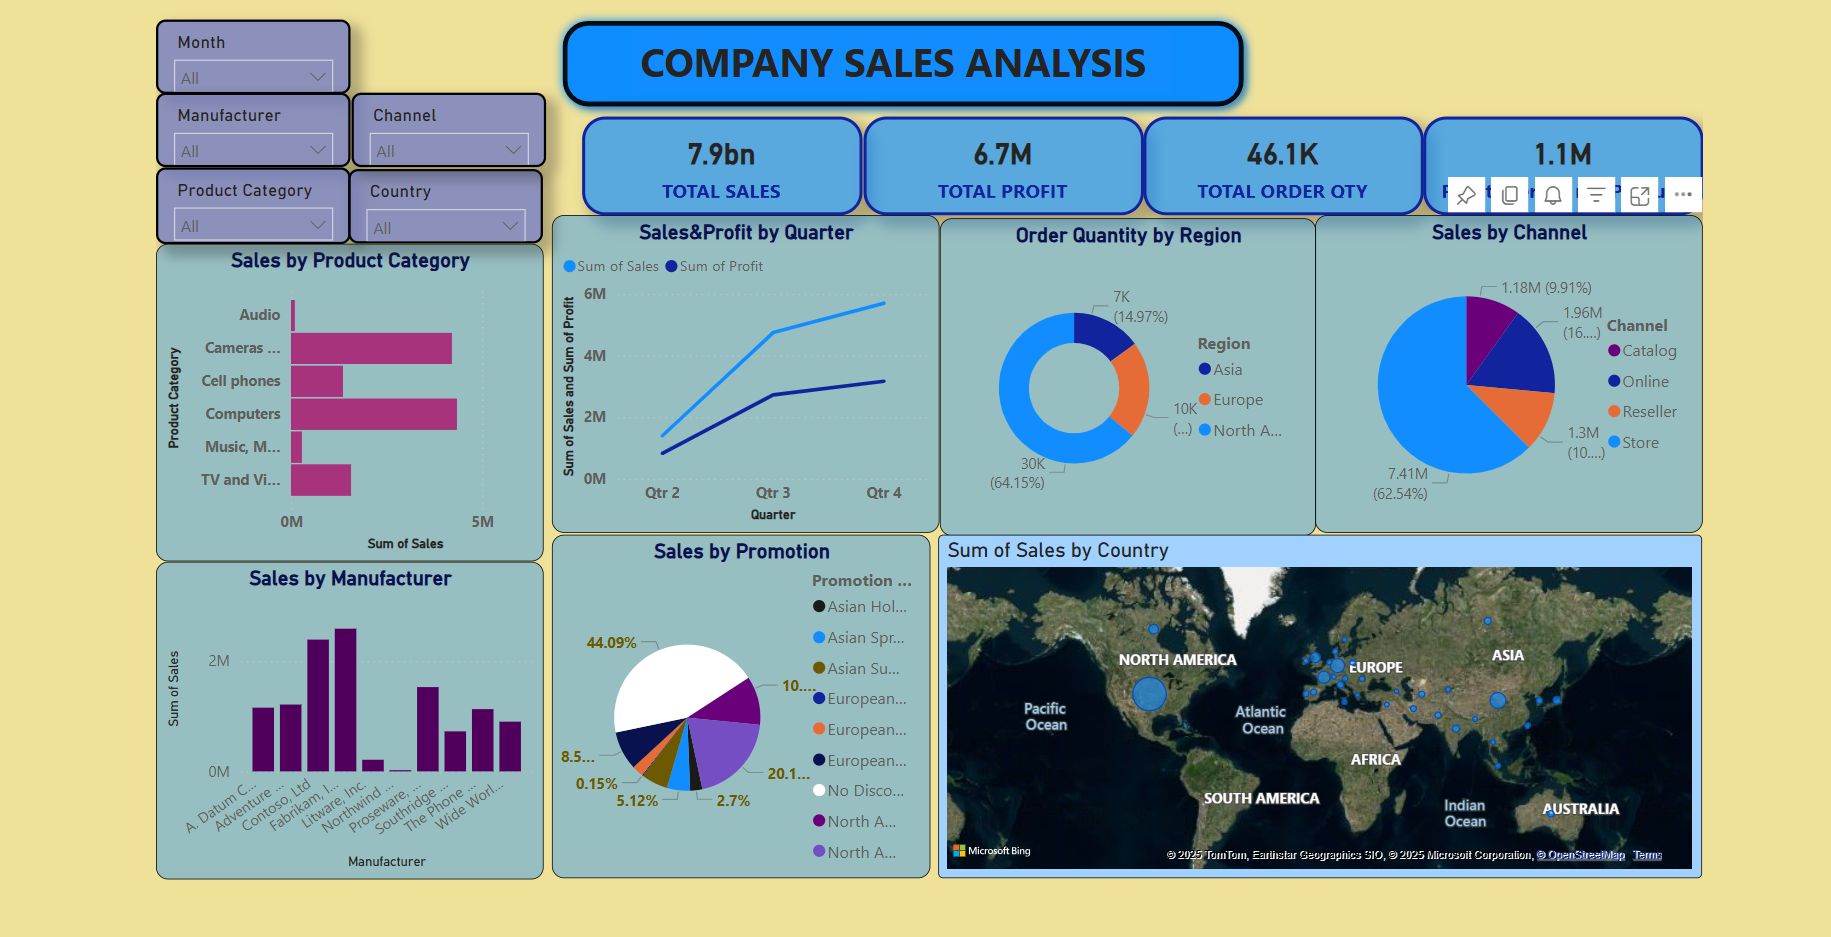

This screenshot's page, from the dashboard's own definition file:
{"tool":"powerbi","page":{"name":"2016","canvas":[1280,720],"ordinal":2},"visuals":[{"type":"shape","box":[327.9,0,581.5,88.8],"z":0,"group":"g1"},{"type":"group","id":"g1","title":"Group 1","box":[327.9,0,581.5,88.8],"z":0},{"type":"textbox","box":[396.7,16.3,443.8,52.5],"z":1000,"group":"g1"},{"type":"card","fields":{"Values":["KPIs.TOTAL SALES"]},"box":[353.2,88.8,231.9,81.5],"z":1000},{"type":"card","fields":{"Values":["KPIs.TOTAL PROFIT"]},"box":[585.1,88.8,231.9,81.5],"z":2000},{"type":"card","fields":{"Values":["KPIs.TOTAL ORDER QTY"]},"box":[816.9,88.8,231.9,81.5],"z":3000},{"type":"card","fields":{"Values":["KPIs.Profit average per Product Category"]},"box":[1048.1,88.8,231.9,81.5],"z":4000},{"type":"barChart","title":"Sales by Product Category","fields":{"Category":["COMPANY SALES DATA.Product Category"],"Y":["Sum(COMPANY SALES DATA.Sales)"]},"box":[0,193.8,320.6,262.7],"z":5000},{"type":"lineChart","title":"Sales&Profit by Quarter","fields":{"Category":["COMPANY SALES DATA.Order Date.Variation.Date Hierarchy.Quarter"],"Y":["Sum(COMPANY SALES DATA.Sales)","Sum(COMPANY SALES DATA.Profit)"]},"box":[327.9,170.3,320.6,262.7],"z":6000},{"type":"pieChart","title":"Sales by Channel","fields":{"Category":["COMPANY SALES DATA.Channel"],"Y":["Sum(COMPANY SALES DATA.Sales)"]},"box":[959.4,170.3,320.6,262.7],"z":7000},{"type":"donutChart","title":"Order Quantity by Region","fields":{"Category":["COMPANY SALES DATA.Region"],"Y":["Sum(COMPANY SALES DATA.Order Qty)"]},"box":[648.5,172.1,311.6,262.7],"z":8000},{"type":"columnChart","title":"Sales by Manufacturer","fields":{"Category":["COMPANY SALES DATA.Manufacturer"],"Y":["Sum(COMPANY SALES DATA.Sales)"]},"box":[0,456.5,320.6,262.7],"z":9000},{"type":"pieChart","title":"Sales by Promotion","fields":{"Y":["Sum(COMPANY SALES DATA.Sales)"],"Series":["COMPANY SALES DATA.Promotion Name"]},"box":[327.9,434.7,313.4,284.4],"z":10000},{"type":"slicer","fields":{"Values":["COMPANY SALES DATA.Order Date.Variation.Date Hierarchy.Month"]},"box":[0,7.2,161.2,61.6],"z":11000},{"type":"slicer","fields":{"Values":["COMPANY SALES DATA.Manufacturer"]},"box":[0,68.8,161.2,61.6],"z":12000},{"type":"slicer","fields":{"Values":["COMPANY SALES DATA.Product Category"]},"box":[0,130.4,161.2,63.4],"z":13000},{"type":"slicer","fields":{"Values":["COMPANY SALES DATA.Country"]},"box":[159.4,132.2,161.2,61.6],"z":14000},{"type":"slicer","fields":{"Values":["COMPANY SALES DATA.Channel"]},"box":[161.2,68.8,161.2,61.6],"z":15000},{"type":"map","fields":{"Category":["COMPANY SALES DATA.Country"],"Size":["Sum(COMPANY SALES DATA.Sales)"]},"box":[647.8,434.7,632.2,284.4],"z":16000}]}

Visuals, with their boxes on the page's 1280x720 design canvas (x1, y1, x2, y2). These are canvas units, not pixel positions in the 1831x937 screenshot, which may show the page scaled, cropped or inside an application window:
shape: 328,0,909,89
"Group 1" group: 328,0,909,89
textbox: 397,16,840,69
card - KPIs.TOTAL SALES: 353,89,585,170
card - KPIs.TOTAL PROFIT: 585,89,817,170
card - KPIs.TOTAL ORDER QTY: 817,89,1049,170
card - KPIs.Profit average per Product Category: 1048,89,1280,170
"Sales by Product Category" barChart: 0,194,321,456
"Sales&Profit by Quarter" lineChart: 328,170,648,433
"Sales by Channel" pieChart: 959,170,1280,433
"Order Quantity by Region" donutChart: 648,172,960,435
"Sales by Manufacturer" columnChart: 0,456,321,719
"Sales by Promotion" pieChart: 328,435,641,719
slicer - COMPANY SALES DATA.Order Date.Variation.Date Hierarchy.Month: 0,7,161,69
slicer - COMPANY SALES DATA.Manufacturer: 0,69,161,130
slicer - COMPANY SALES DATA.Product Category: 0,130,161,194
slicer - COMPANY SALES DATA.Country: 159,132,321,194
slicer - COMPANY SALES DATA.Channel: 161,69,322,130
map - COMPANY SALES DATA.Country x Sum(COMPANY SALES DATA.Sales): 648,435,1280,719
